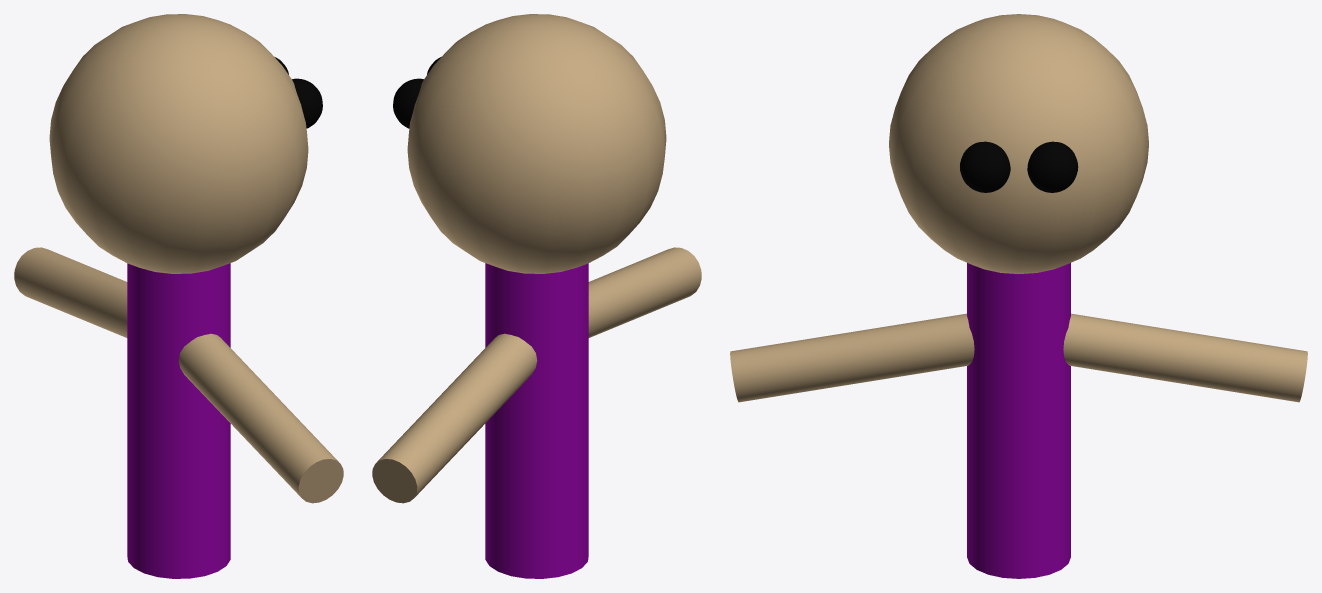
File: Player.fbx
3 renders of one model, left to right at view 1: azimuth 30°, elevation 25°; view 2: azimuth 150°, elevation 25°; view 3: azimuth 270°, elevation 25°, orthographic.
Visible parts, largest first — view 1: pCylinder4; view 2: pCylinder4; view 3: pCylinder4.
Part boxes in pixels (box(x1,y1,x2,y2)): pCylinder4: box(14, 14, 343, 578); pCylinder4: box(372, 14, 701, 578); pCylinder4: box(730, 14, 1307, 578).
Bounding box in the file's own units: 2.1 × 4.5 × 4.44.
